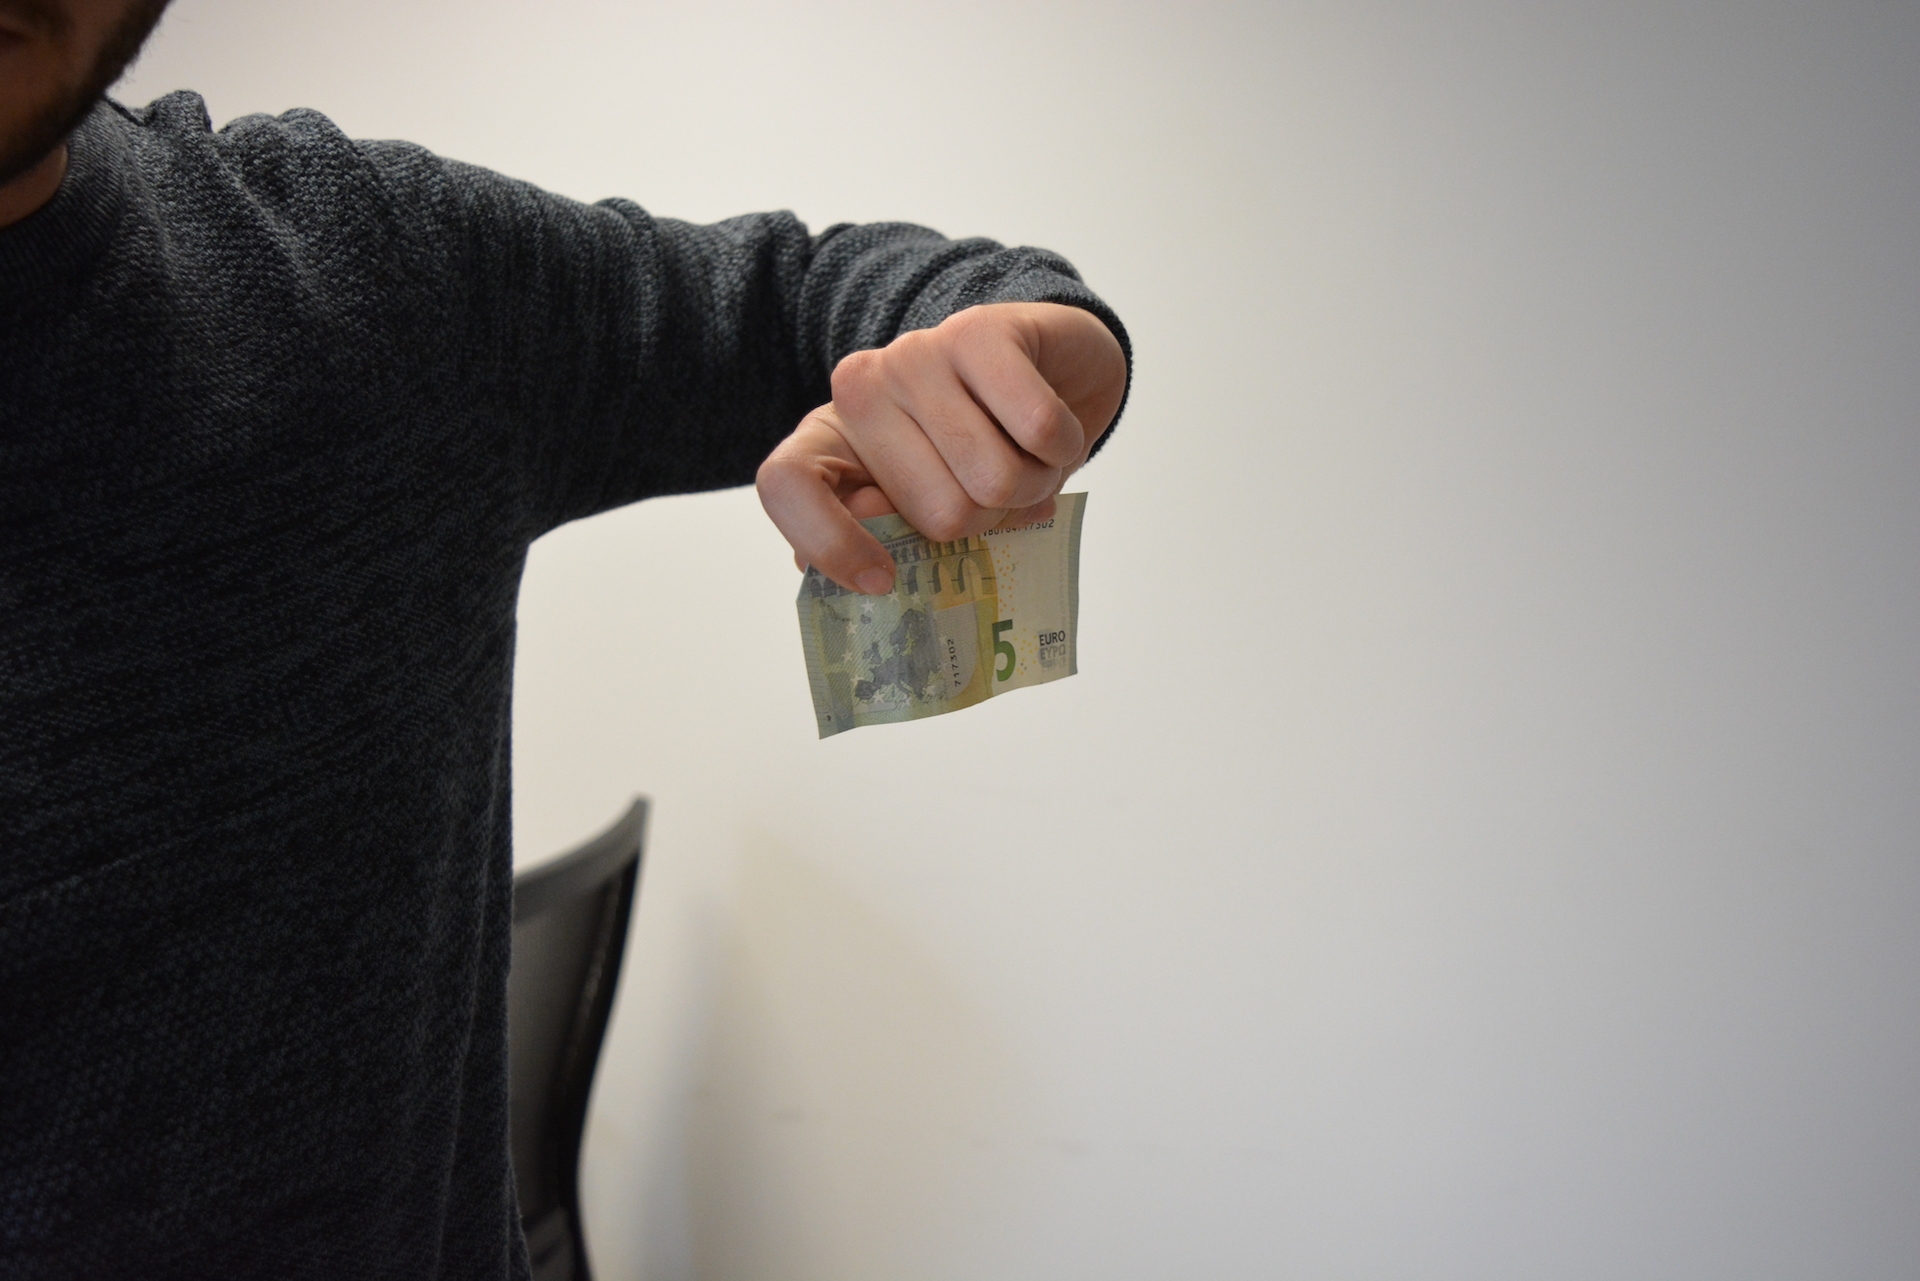billete: (795, 490, 1091, 741)
